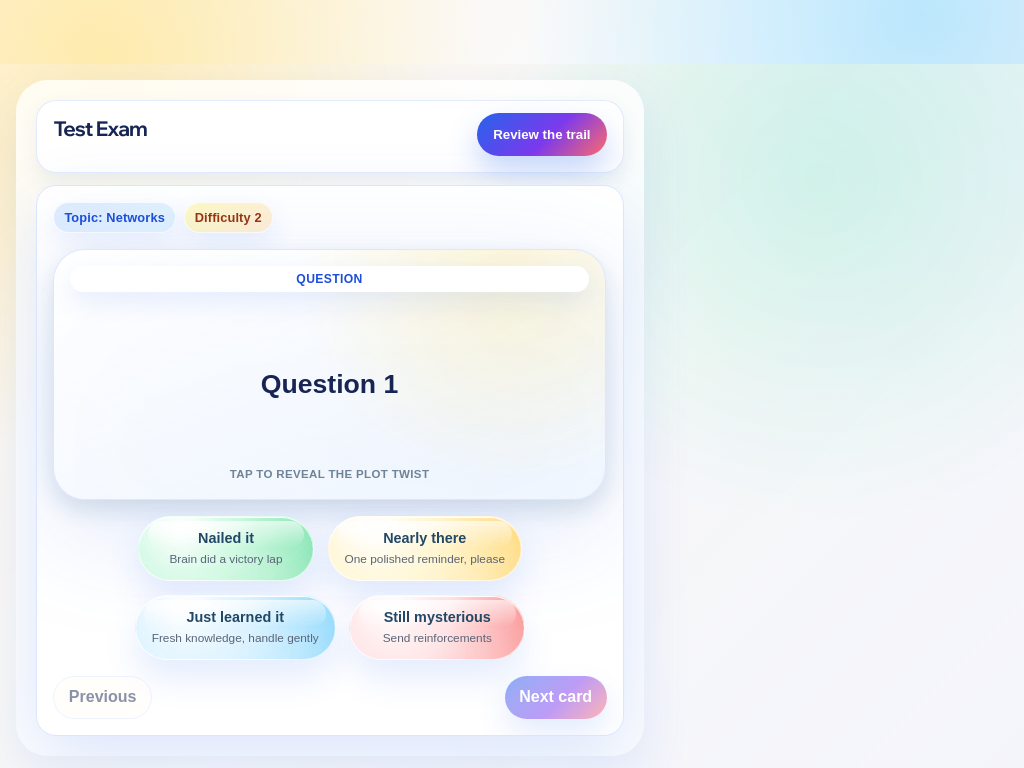
Test: ExamWorkspace › keeps rating visible on previous card and reuses local forward history
Check: the text "Question 1" is shown, box x1=261 y1=364 x2=399 y2=405
Click the button "Nailed it Brain did a victory lap" at (226,548), box x1=138 y1=516 x2=314 y2=581
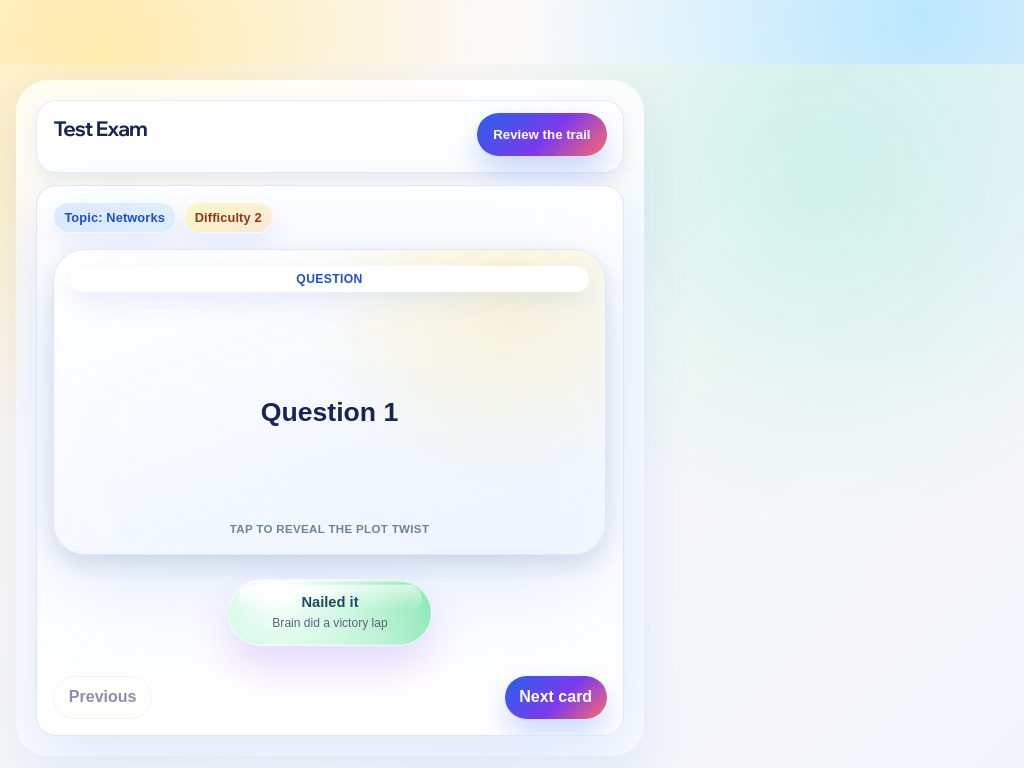
Click the button "Next card" at (556,697), box x1=505 y1=676 x2=606 y2=718
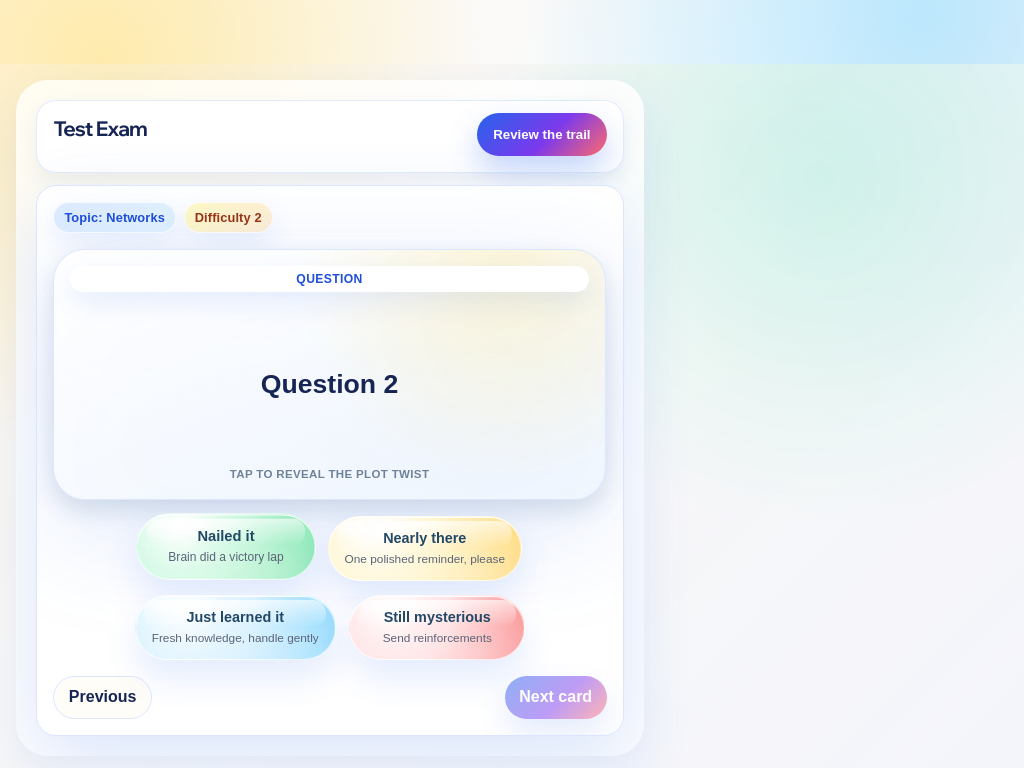
Check: the text "Question 2" is shown, box x1=261 y1=364 x2=399 y2=405
Click the button "Previous" at (103,697), box x1=54 y1=676 x2=152 y2=718
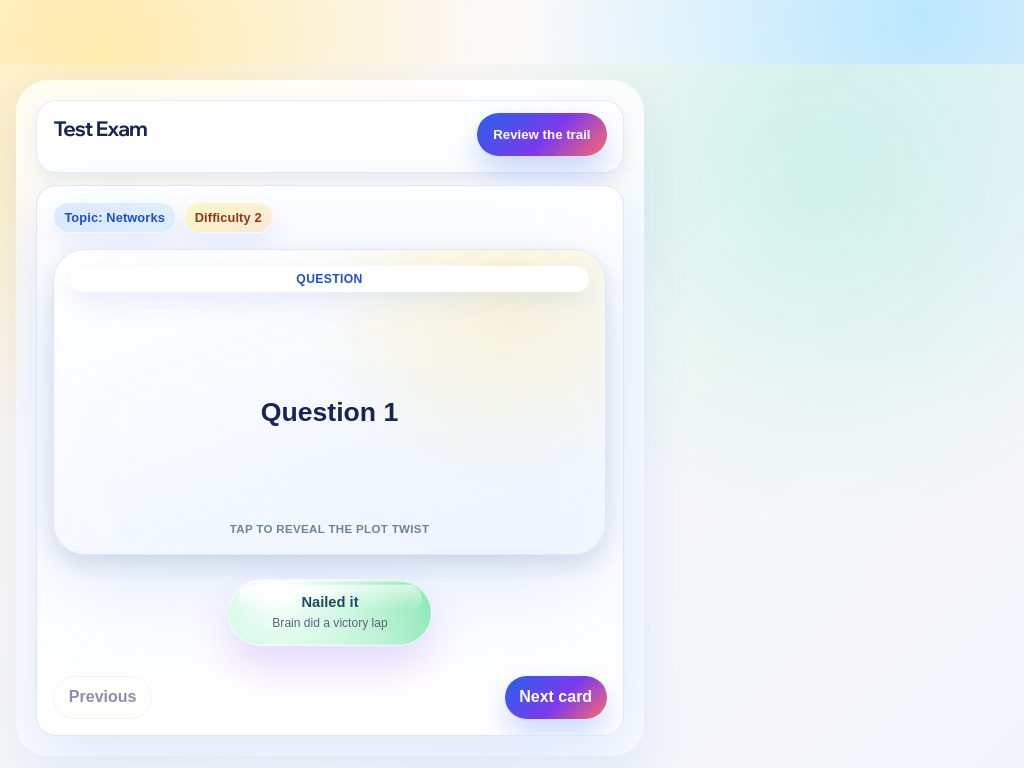
Check: the text "Question 1" is shown, box x1=261 y1=391 x2=399 y2=433
Check: the button "Nailed it Brain did a victory lap" is disabled, box x1=228 y1=580 x2=432 y2=646
Check: the button "Nearly there" is gone
Click the button "Next card" at (556,697), box x1=505 y1=676 x2=606 y2=718
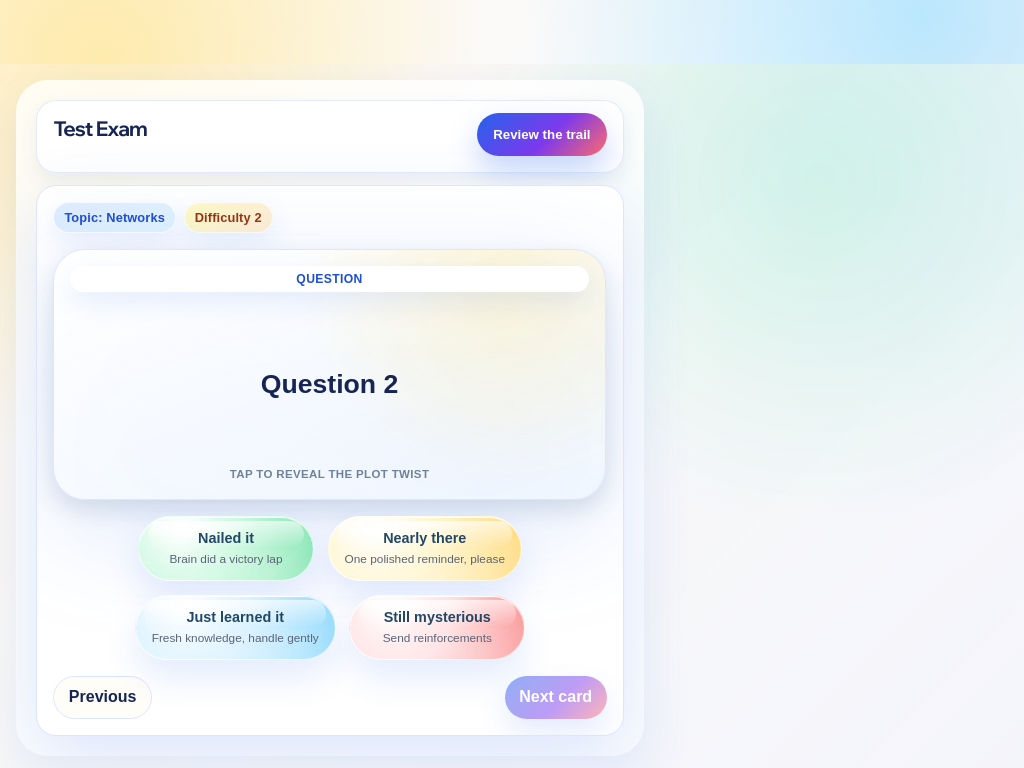
Check: the text "Question 2" is shown, box x1=261 y1=364 x2=399 y2=405
